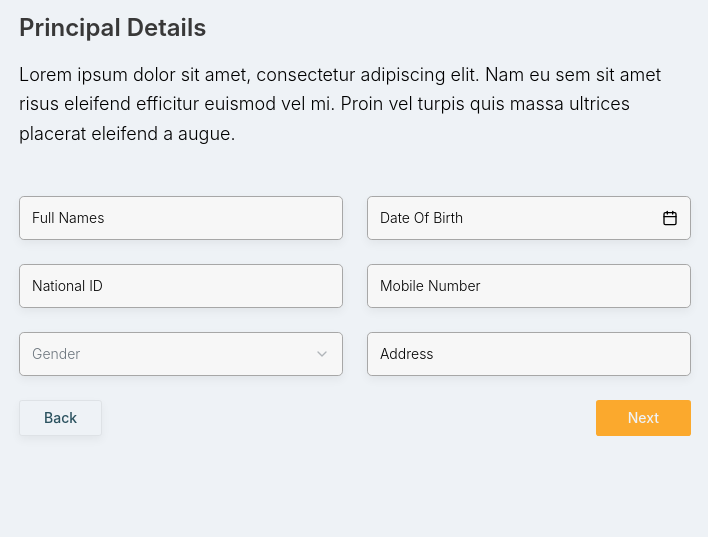
UserDetailsForm › shows validation errors when submitting empty form
The image size is (708, 537).
Step 1. Click the button with test id "next-button" → x=643, y=418, box [596,400,691,436]
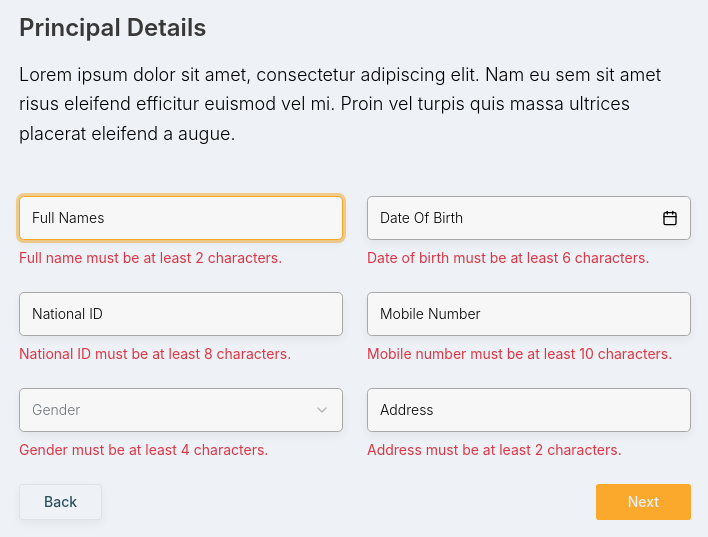
Expected: the text "Full name must be at least 2 characters." is shown, [19,249,282,266]
Expected: the text "Date of birth must be at least 6 characters." is shown, [367,248,691,268]
Expected: the text "National ID must be at least 8 characters." is shown, [19,345,291,362]
